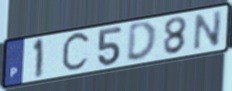1: (30, 37, 45, 81)
5: (97, 25, 124, 68)
8: (162, 15, 188, 56)
C: (60, 29, 93, 76)
D: (124, 20, 158, 63)
N: (191, 8, 225, 53)
